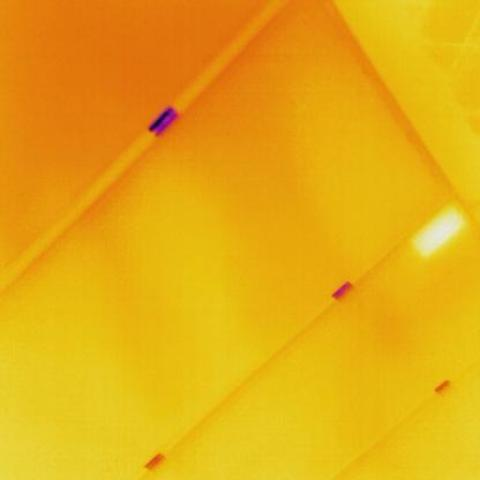fault: (414, 210, 474, 248)
